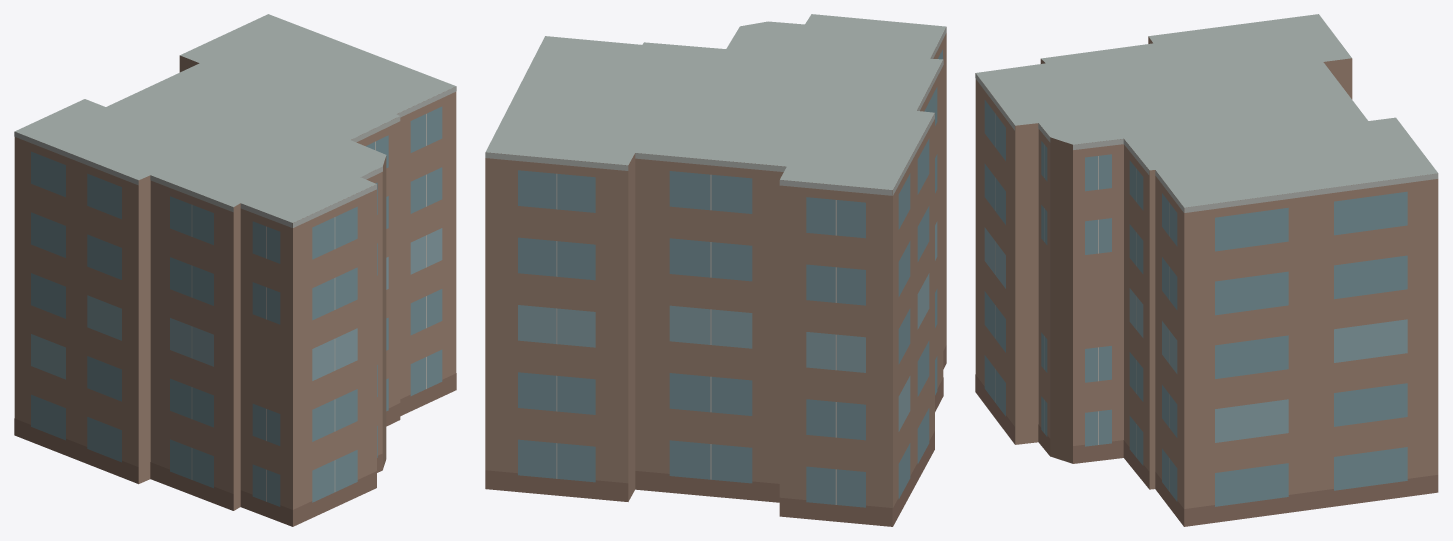
File: survey-upis-32703994.glb
3 views of the same model, side by side, from view 1: azimuth 30°, elevation 25°; view 2: azimuth 150°, elevation 25°; view 3: azimuth 270°, elevation 25° (orthographic). The views are drawn at different scales.
Parts seen in each view (by area): view 1: survey-upis-32703994.tmp; view 2: survey-upis-32703994.tmp; view 3: survey-upis-32703994.tmp.
Part boxes in pixels (left/top/right/bottom): survey-upis-32703994.tmp: left=14, top=14, right=456, bottom=526; survey-upis-32703994.tmp: left=485, top=14, right=946, bottom=526; survey-upis-32703994.tmp: left=975, top=14, right=1438, bottom=526.
Size of the model in its own units: 18.55 by 14.25 by 18.74.
